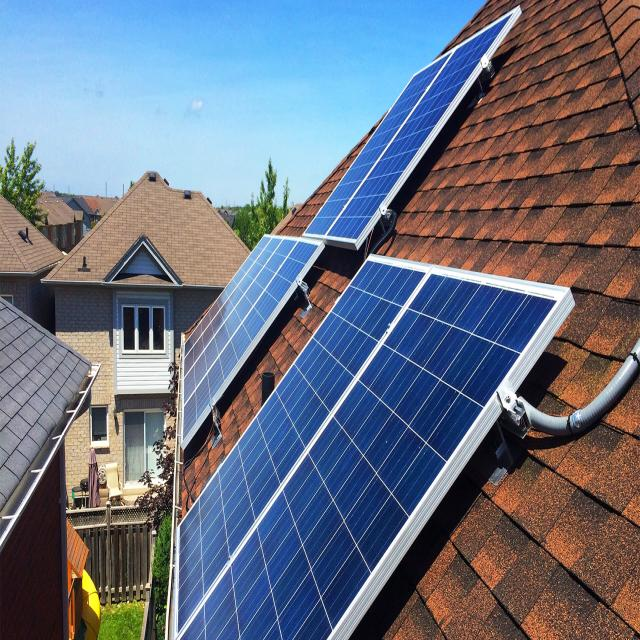clean-solar-panel: (175, 256, 574, 638), (304, 7, 521, 249)
